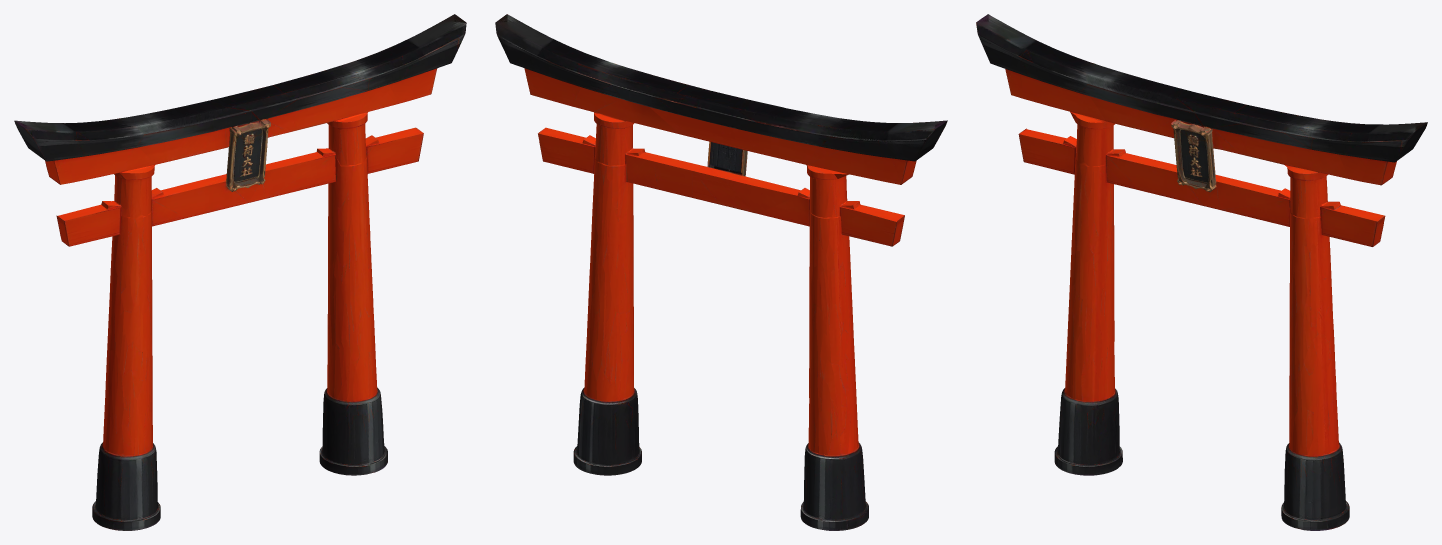
The model's file is torii.glb.
3 renders of one model, left to right at view 1: azimuth 30°, elevation 25°; view 2: azimuth 150°, elevation 25°; view 3: azimuth 330°, elevation 25°, orthographic.
Size of the model in its own units: 1.9 by 1.72 by 0.2567.
Materials: 1 (1 with a texture image).
